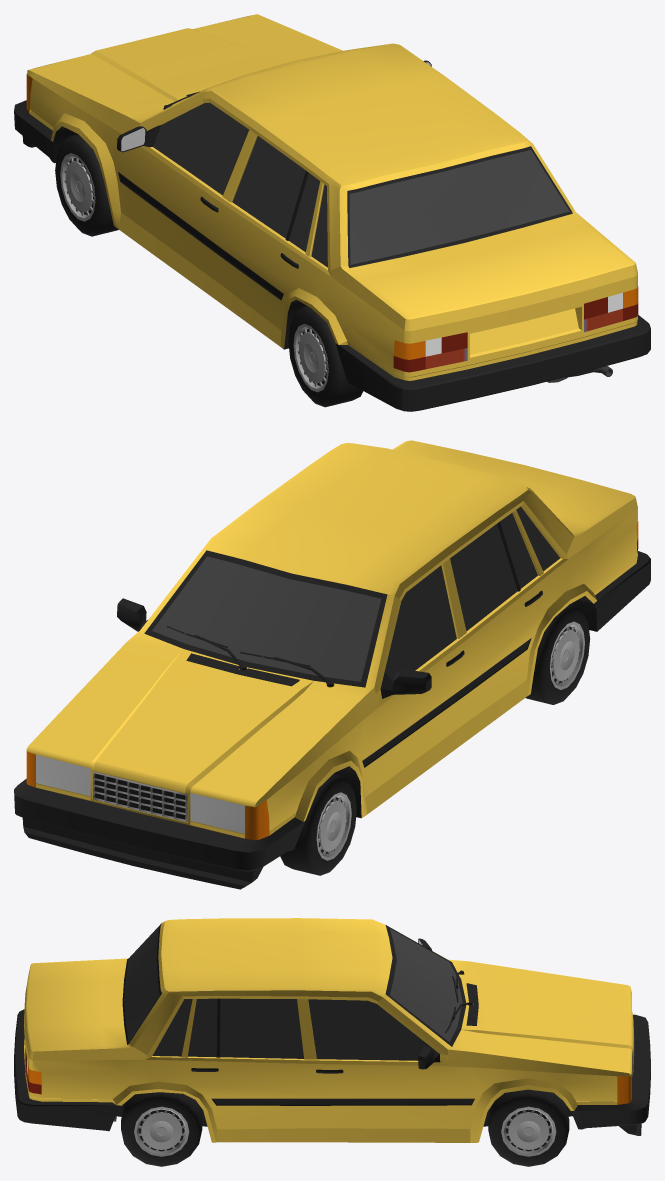
File: m8_sedan_mustard.glb
3 renders of one model, top to bottom at view 1: azimuth 30°, elevation 25°; view 2: azimuth 150°, elevation 25°; view 3: azimuth 270°, elevation 25°, orthographic. The views are drawn at different scales.
Parts seen in each view (by area): view 1: Body, Wheel_RL, Wheel_FL; view 2: Body, Wheel_FL, Wheel_RL, Interior; view 3: Body, Wheel_FR, Wheel_RR.
Part boxes in pixels (bbox=[...]): Body: bbox=[14, 14, 650, 411]; Wheel_RL: bbox=[288, 306, 363, 407]; Wheel_FL: bbox=[55, 134, 118, 236]; Body: bbox=[14, 440, 650, 889]; Wheel_FL: bbox=[280, 774, 356, 875]; Wheel_RL: bbox=[525, 604, 590, 704]; Interior: bbox=[167, 625, 334, 687]; Body: bbox=[14, 918, 650, 1142]; Wheel_FR: bbox=[488, 1089, 569, 1166]; Wheel_RR: bbox=[121, 1092, 202, 1166].
Bounding box in the file's own units: 2.13 × 1.39 × 4.78.
1 material, 1 textured.
